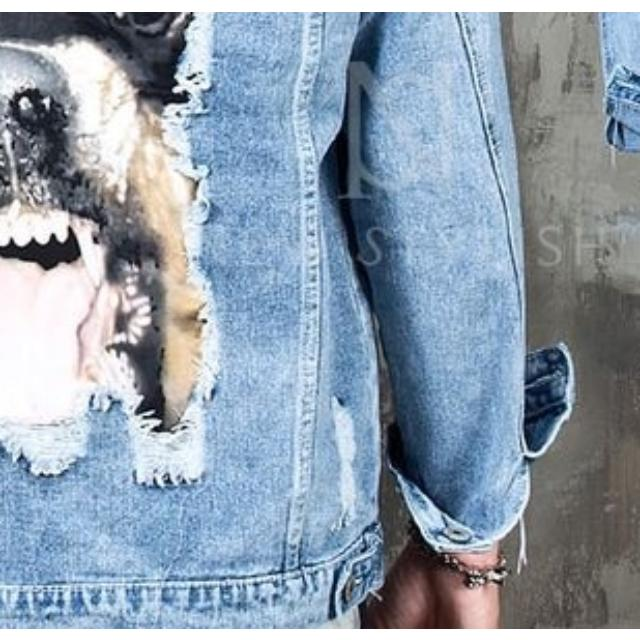denim: (1, 11, 522, 605)
